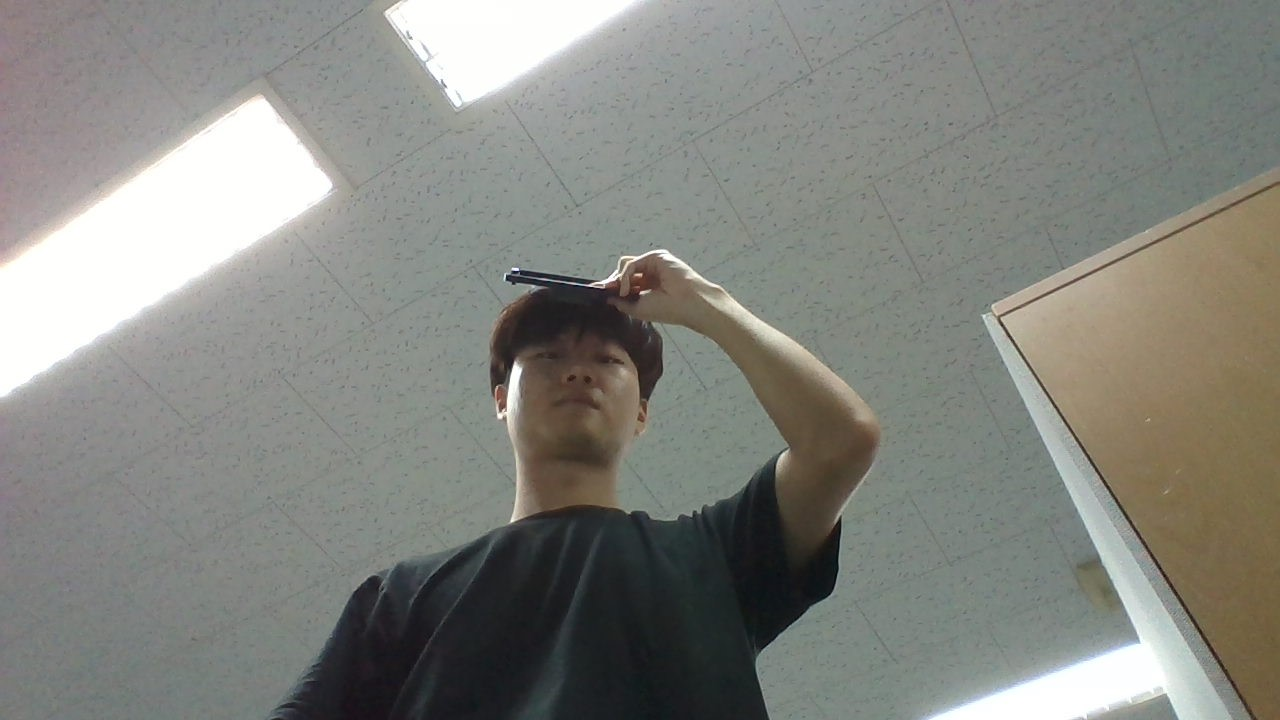Non-Helmet: (461, 258, 687, 486)
